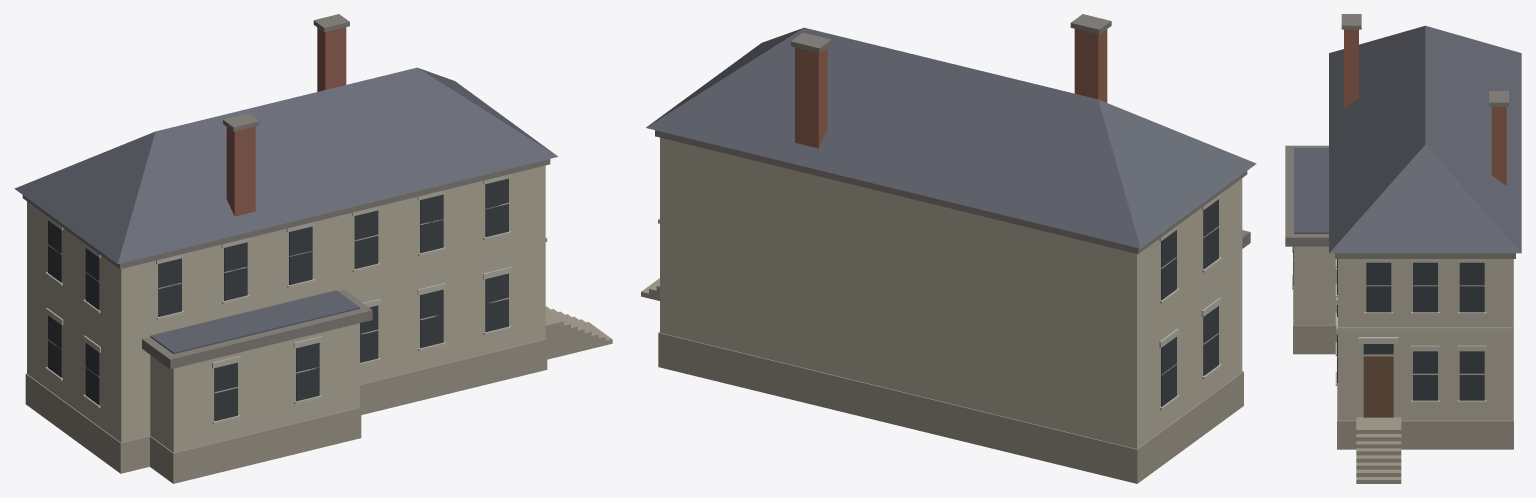
The model's file is house_2111_indiana__draft_1904.glb.
The picture shows the model from 3 angles, left to right: view 1: azimuth 30°, elevation 25°; view 2: azimuth 150°, elevation 25°; view 3: azimuth 270°, elevation 25°; orthographic projection. The views are drawn at different scales.
Visible parts, largest first — view 1: house_2111_indiana__draft_1904; view 2: house_2111_indiana__draft_1904; view 3: house_2111_indiana__draft_1904.
Part boxes in pixels (x1,y1,x2,y2): house_2111_indiana__draft_1904: [14, 14, 612, 483]; house_2111_indiana__draft_1904: [641, 14, 1256, 483]; house_2111_indiana__draft_1904: [1285, 14, 1521, 483].
Size of the model in its own units: 21.9 by 12.99 by 9.45.
